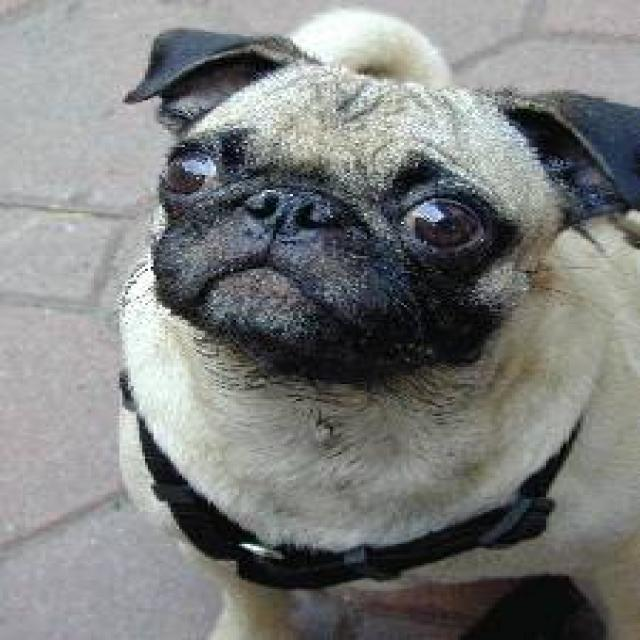dog-pug: (91, 4, 634, 636)
